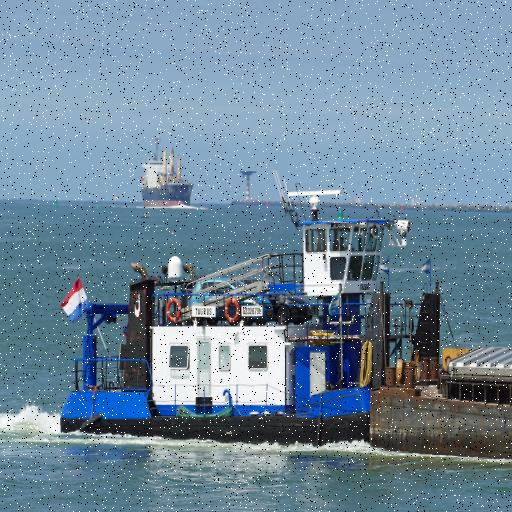tugboat: (57, 186, 448, 460)
